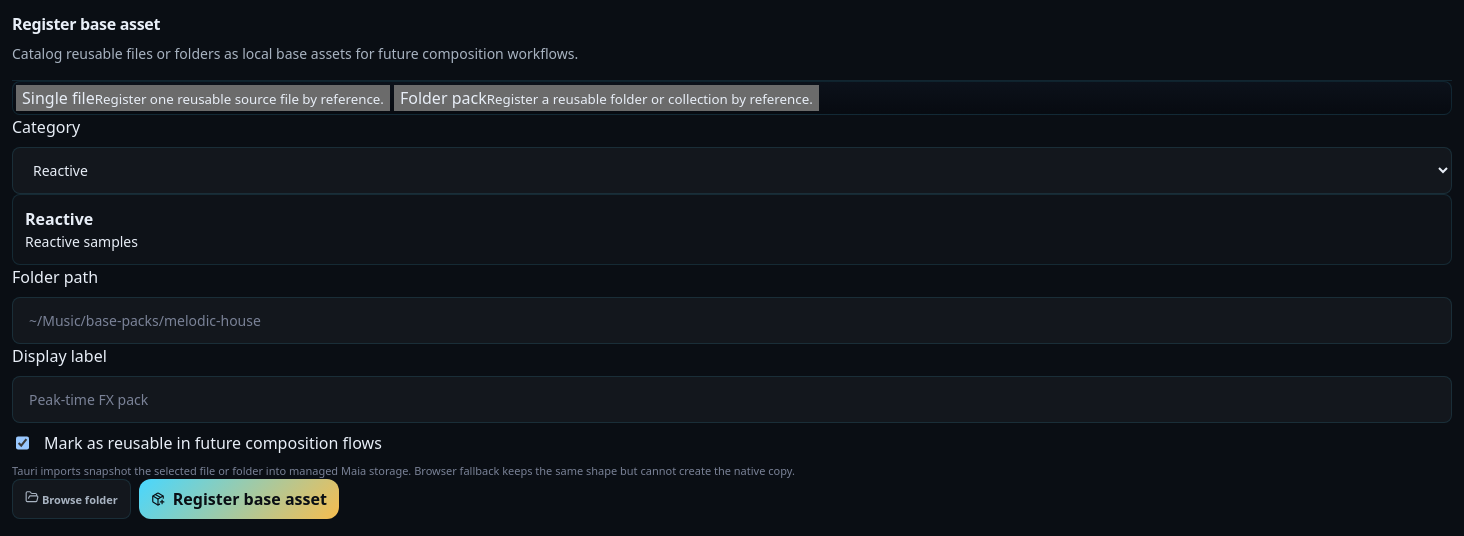
Scenario: ImportBaseAssetForm › browses, derives labels, imports, and resets on success
Click the button that starts with "Single file".
click(203, 98)  # box [16, 85, 390, 111]
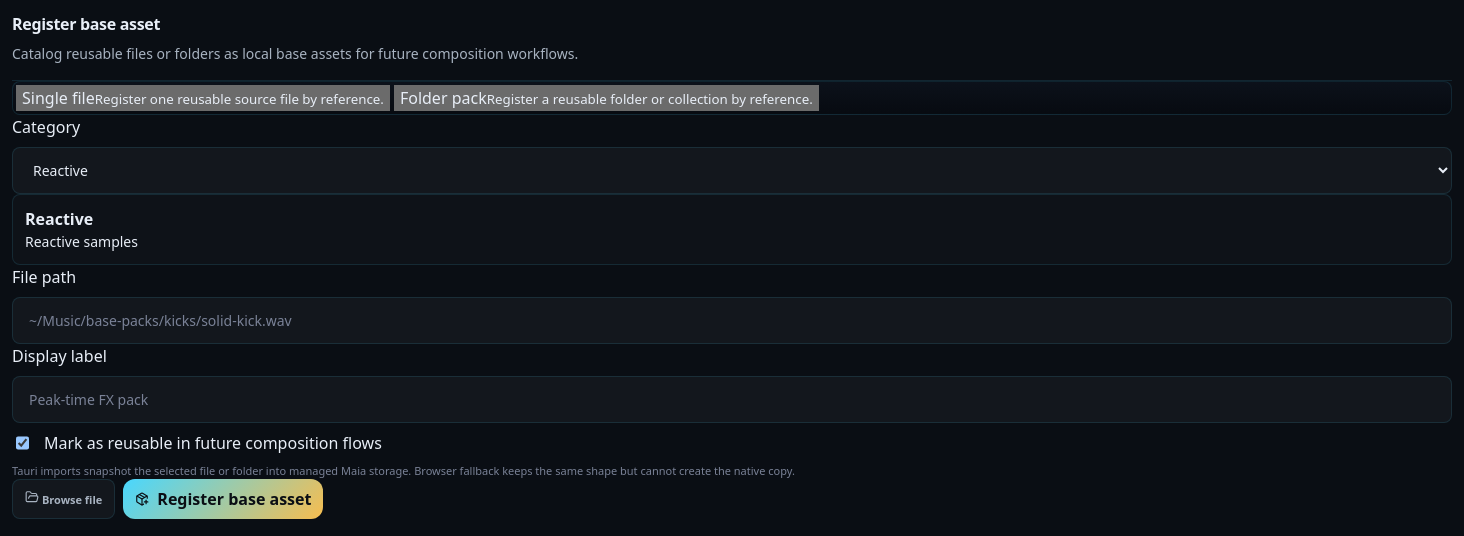
Click the button "Browse file".
click(64, 499)  # box [12, 479, 115, 519]
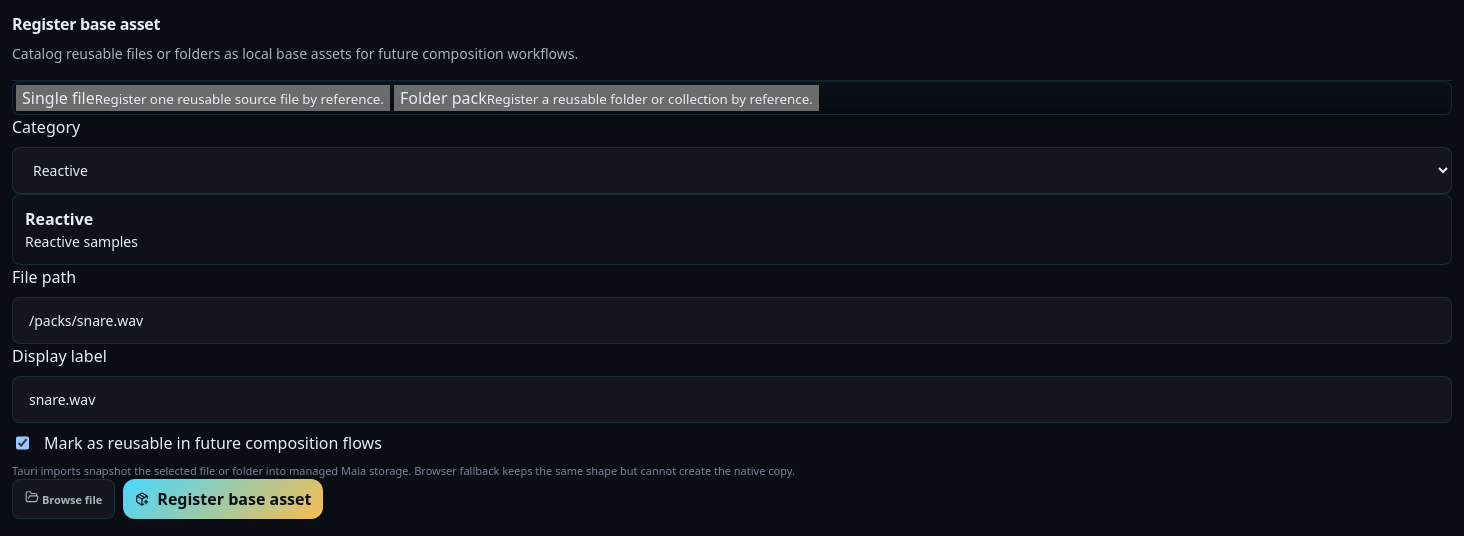
Result: the field with placeholder "~/Music/base-packs/kicks/solid-kick.wav" holds "/packs/snare.wav" at [12, 297, 1452, 344]
Result: the field with placeholder "Peak-time FX pack" holds "snare.wav" at [12, 376, 1452, 423]
Click the checkbox.
click(22, 443)  # box [16, 434, 29, 452]
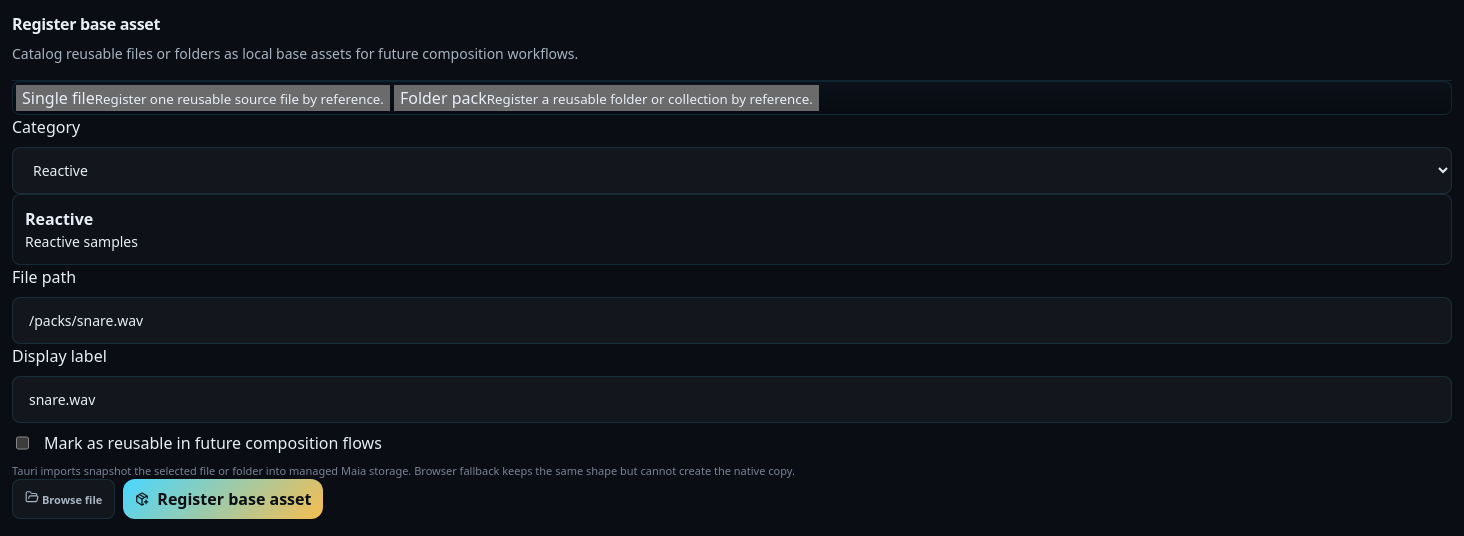
Click the button "Register base asset".
click(223, 499)  # box [123, 479, 323, 519]
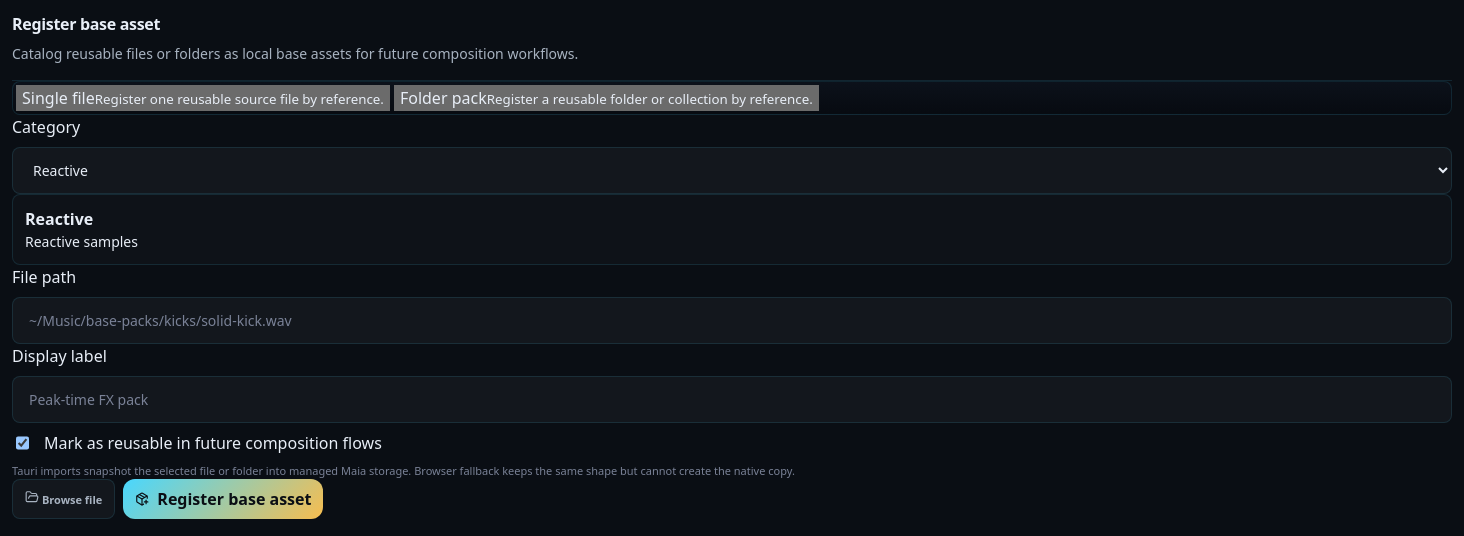
Result: the checkbox is checked at [16, 434, 29, 452]
Result: the field with placeholder "~/Music/base-packs/kicks/solid-kick.wav" is empty at [12, 297, 1452, 344]
Result: the field with placeholder "Peak-time FX pack" is empty at [12, 376, 1452, 423]
